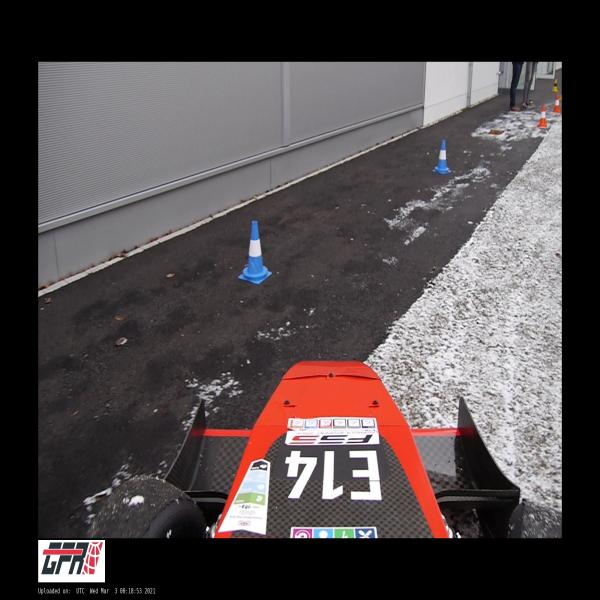blue_cone: (238, 221, 272, 284), (433, 140, 451, 174)
orange_cone: (537, 105, 547, 127), (552, 94, 561, 112)
yellow_cone: (552, 79, 558, 93)
